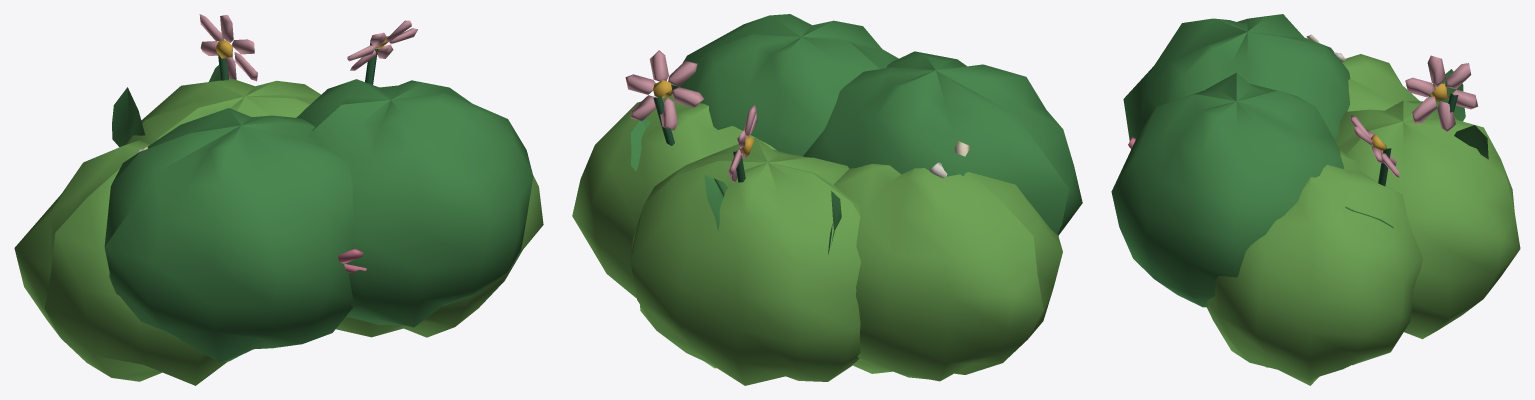
The model's file is arbusto_flores_lod.glb.
3 renders of one model, left to right at view 1: azimuth 30°, elevation 25°; view 2: azimuth 150°, elevation 25°; view 3: azimuth 270°, elevation 25°, orthographic. The views are drawn at different scales.
Visible parts, largest first — view 1: arbusto_flores_ramas_0; view 2: arbusto_flores_ramas_0; view 3: arbusto_flores_ramas_0.
Part boxes in pixels (box(x1,y1,x2,y2)): arbusto_flores_ramas_0: box(14, 14, 543, 385); arbusto_flores_ramas_0: box(572, 14, 1082, 385); arbusto_flores_ramas_0: box(1111, 14, 1520, 385).
Bounding box in the file's own units: 0.955 × 0.5624 × 0.7909.
